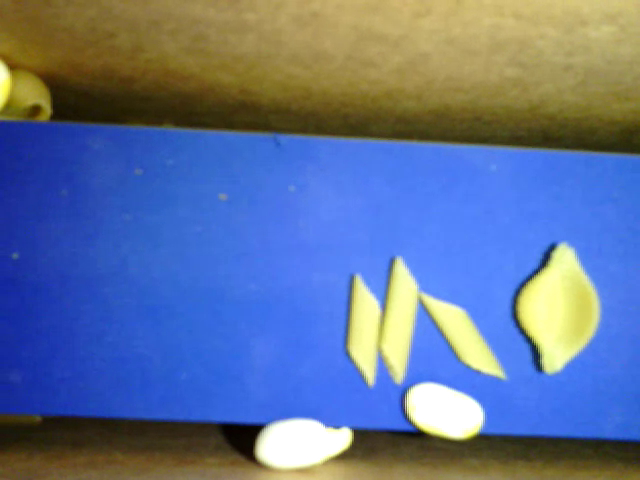penne: (416, 290, 510, 382), (378, 250, 418, 385), (344, 274, 383, 393)
shell: (513, 240, 598, 374), (1, 68, 56, 128)
